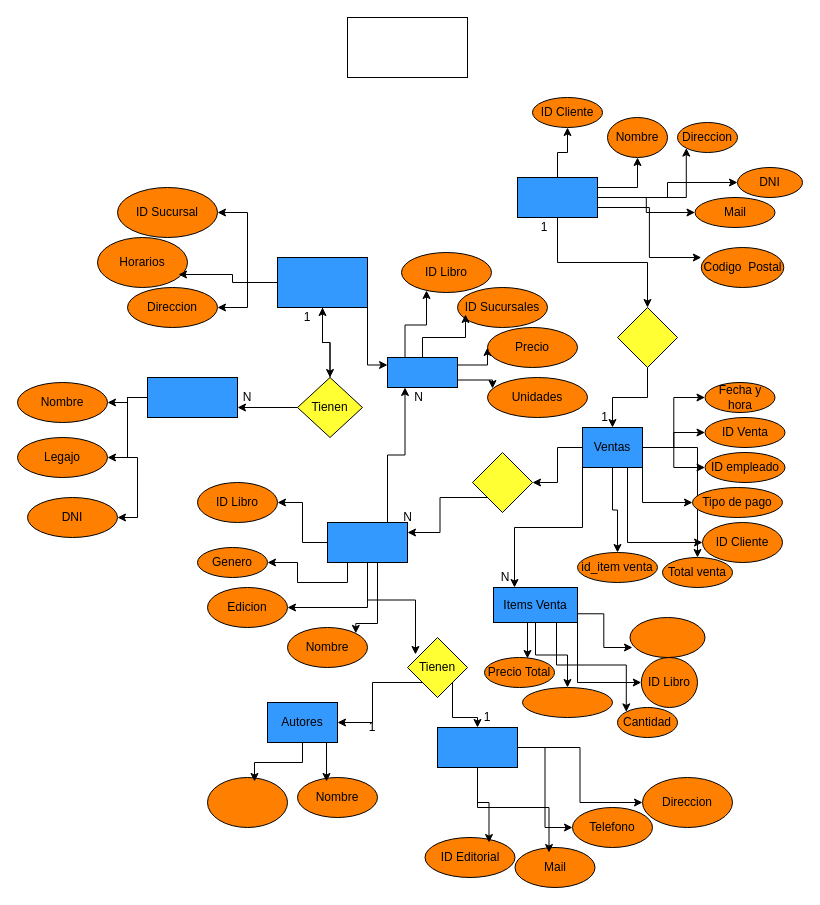
Image size: 820x905. Some labels were removed from this diagram. The centre of each missing label's shape, as x and y in pixels:
"Clientes" goes at [557,197].
"Editoriales" goes at [477,747].
"Egresan" goes at [502,482].
"Empleados" goes at [192,397].
"ID autor" goes at [247,802].
"Id items venta" goes at [667,637].
"Libreria" goes at [407,47].
"Libros" goes at [367,542].
"Precio individual" goes at [567,702].
"Realizan" goes at [647,337].
"Stock" goes at [422,372].
"Sucursales" goes at [322,282].
